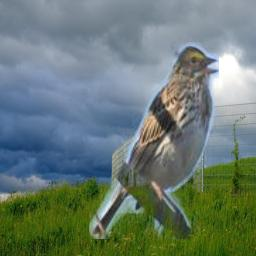Sparrow: (89, 42, 219, 239)
